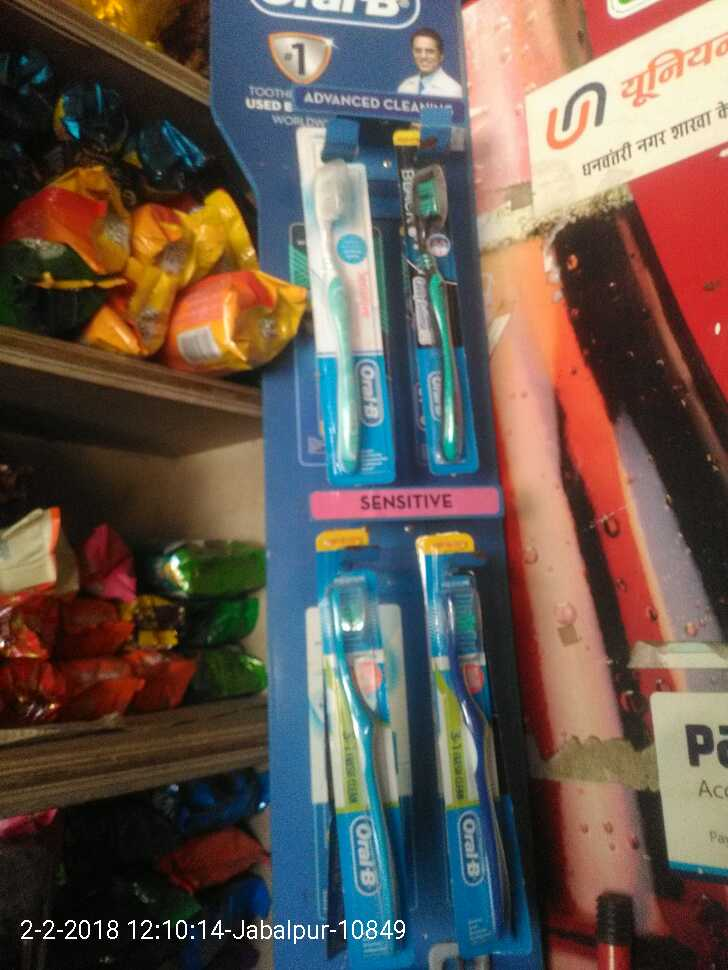oralb: (432, 552, 527, 945), (316, 527, 406, 936), (310, 128, 385, 484), (406, 142, 471, 474)
